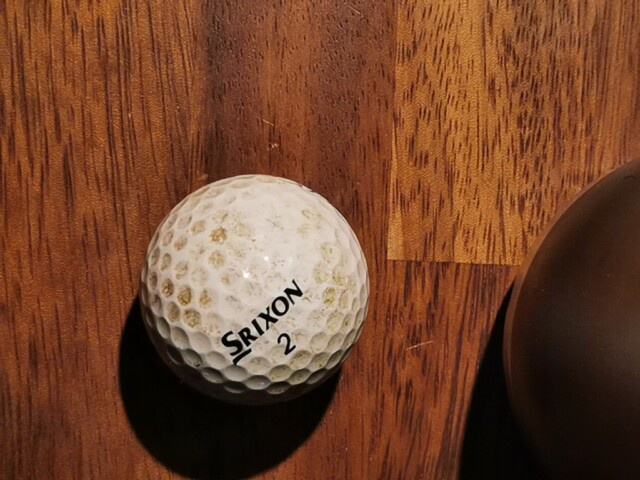Ball: (139, 174, 371, 406)
Srixon: (221, 279, 303, 367)
